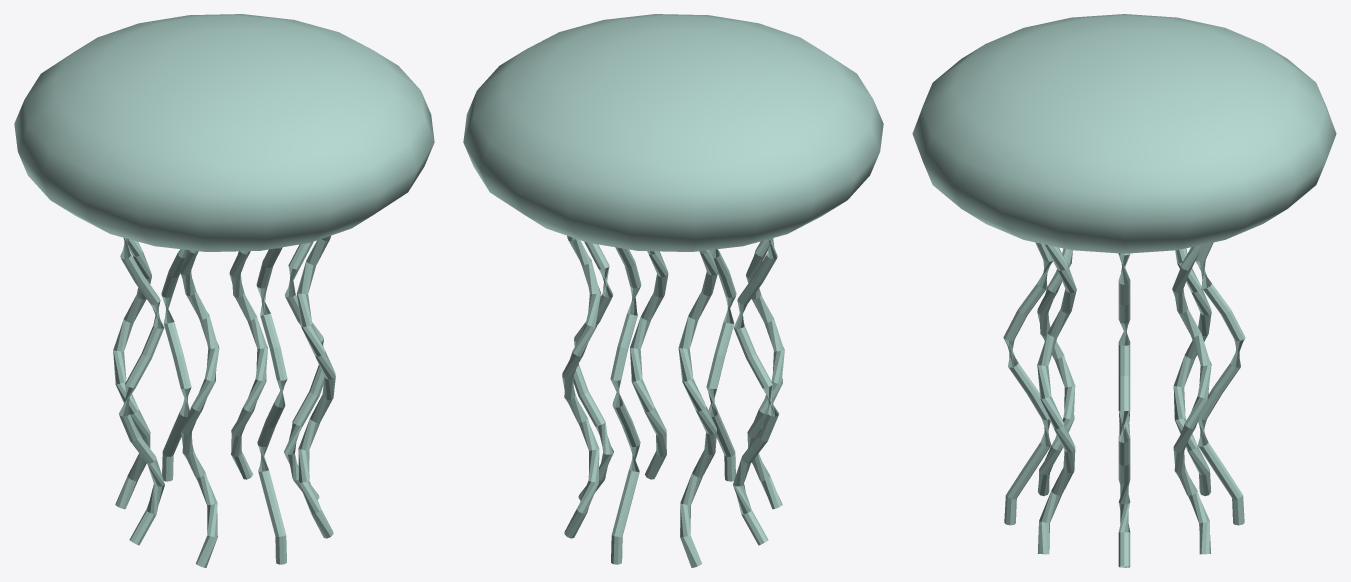
3 renders of one model, left to right at view 1: azimuth 30°, elevation 25°; view 2: azimuth 150°, elevation 25°; view 3: azimuth 270°, elevation 25°, orthographic.
Parts seen in each view (by area): view 1: Bell, Tentacle.007, Tentacle.005, Tentacle.004, Tentacle.006, Tentacle.003, Tentacle.001, Tentacle.002, Tentacle; view 2: Bell, Tentacle.003, Tentacle.004, Tentacle.001, Tentacle.002, Tentacle.007, Tentacle.005, Tentacle.006, Tentacle; view 3: Bell, Tentacle.007, Tentacle.001, Tentacle, Tentacle.002, Tentacle.006, Tentacle.003, Tentacle.005.
Part boxes in pixels (x1=…): Bell: x1=14, y1=14, x2=434, y2=251; Tentacle.007: x1=296, y1=236, x2=335, y2=538; Tentacle.005: x1=179, y1=250, x2=219, y2=567; Tentacle.004: x1=118, y1=238, x2=164, y2=545; Tentacle.006: x1=256, y1=247, x2=287, y2=564; Tentacle.003: x1=113, y1=237, x2=151, y2=509; Tentacle.001: x1=229, y1=251, x2=267, y2=479; Tentacle.002: x1=161, y1=249, x2=191, y2=481; Tentacle: x1=284, y1=241, x2=324, y2=499; Bell: x1=463, y1=14, x2=883, y2=251; Tentacle.003: x1=678, y1=250, x2=718, y2=567; Tentacle.004: x1=733, y1=238, x2=779, y2=545; Tentacle.001: x1=562, y1=236, x2=600, y2=538; Tentacle.002: x1=610, y1=247, x2=641, y2=564; Tentacle.007: x1=630, y1=251, x2=668, y2=479; Tentacle.005: x1=746, y1=239, x2=784, y2=509; Tentacle.006: x1=706, y1=249, x2=736, y2=481; Tentacle: x1=573, y1=241, x2=613, y2=500; Bell: x1=912, y1=14, x2=1336, y2=253; Tentacle.007: x1=1037, y1=244, x2=1076, y2=554; Tentacle.001: x1=1172, y1=244, x2=1211, y2=554; Tentacle: x1=1118, y1=253, x2=1130, y2=567; Tentacle.002: x1=1195, y1=242, x2=1245, y2=525; Tentacle.006: x1=1003, y1=242, x2=1052, y2=525; Tentacle.003: x1=1173, y1=248, x2=1211, y2=495; Tentacle.005: x1=1037, y1=248, x2=1075, y2=495.
Bounding box in the file's own units: 124 × 152 × 124.
